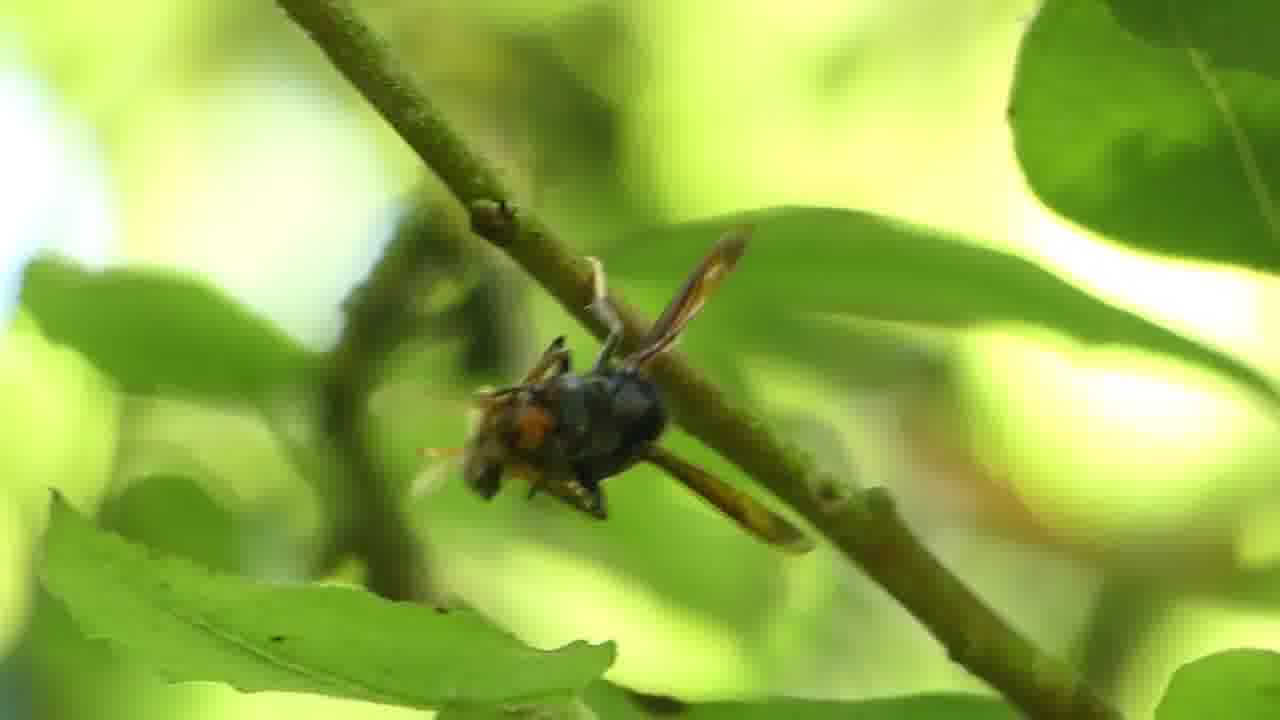hornet: (436, 290, 822, 552)
